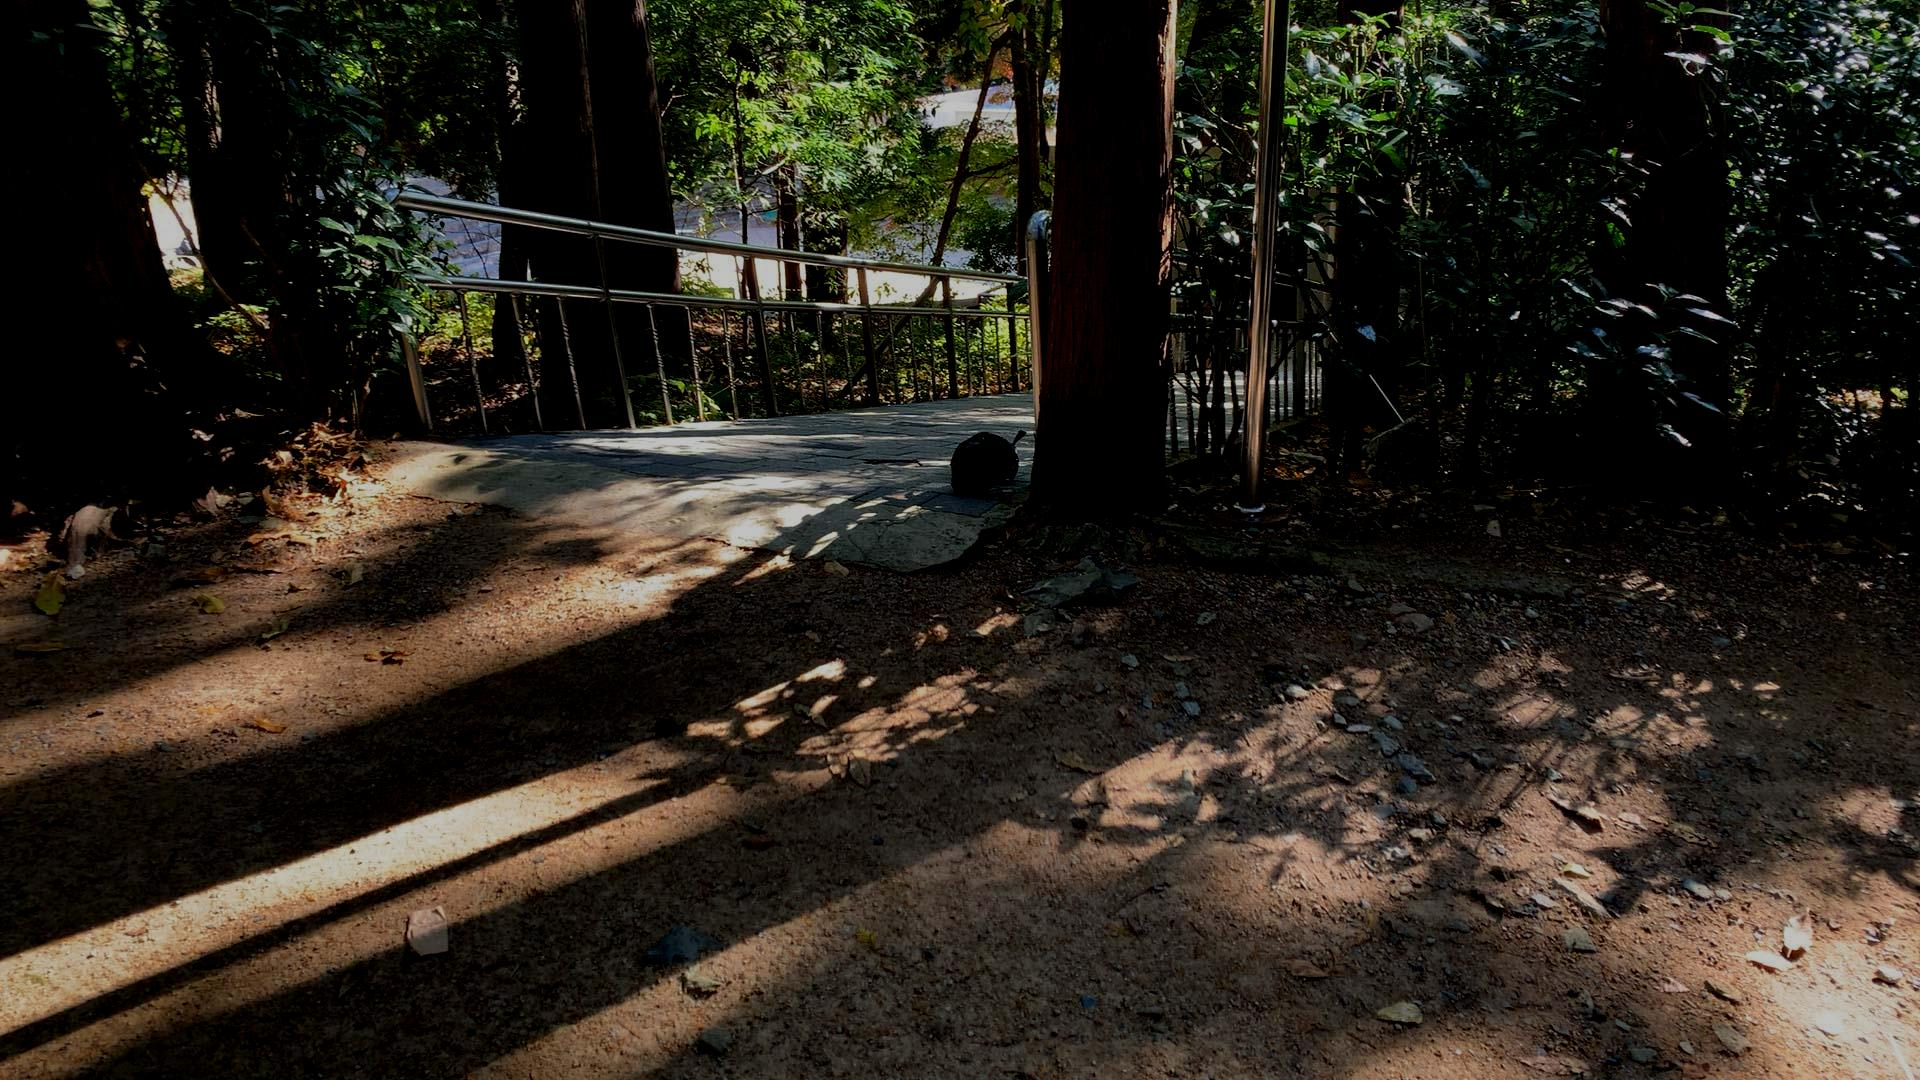black_bag: (945, 422, 1029, 497)
